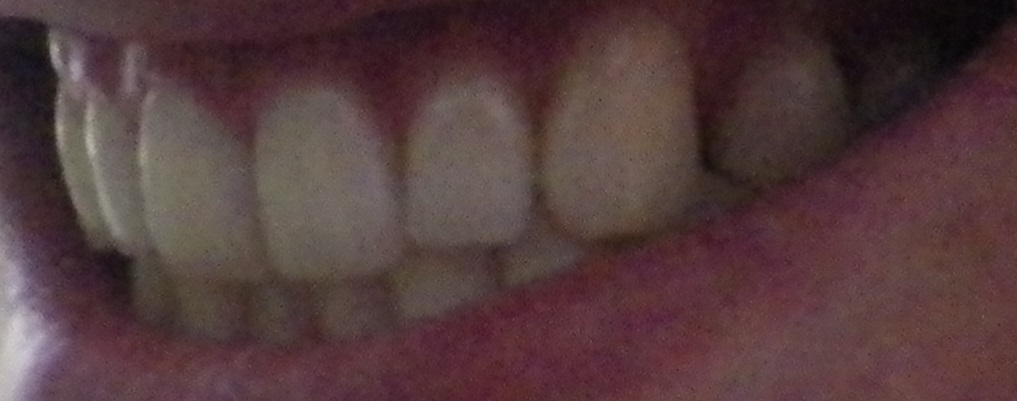boca: (37, 47, 915, 342)
